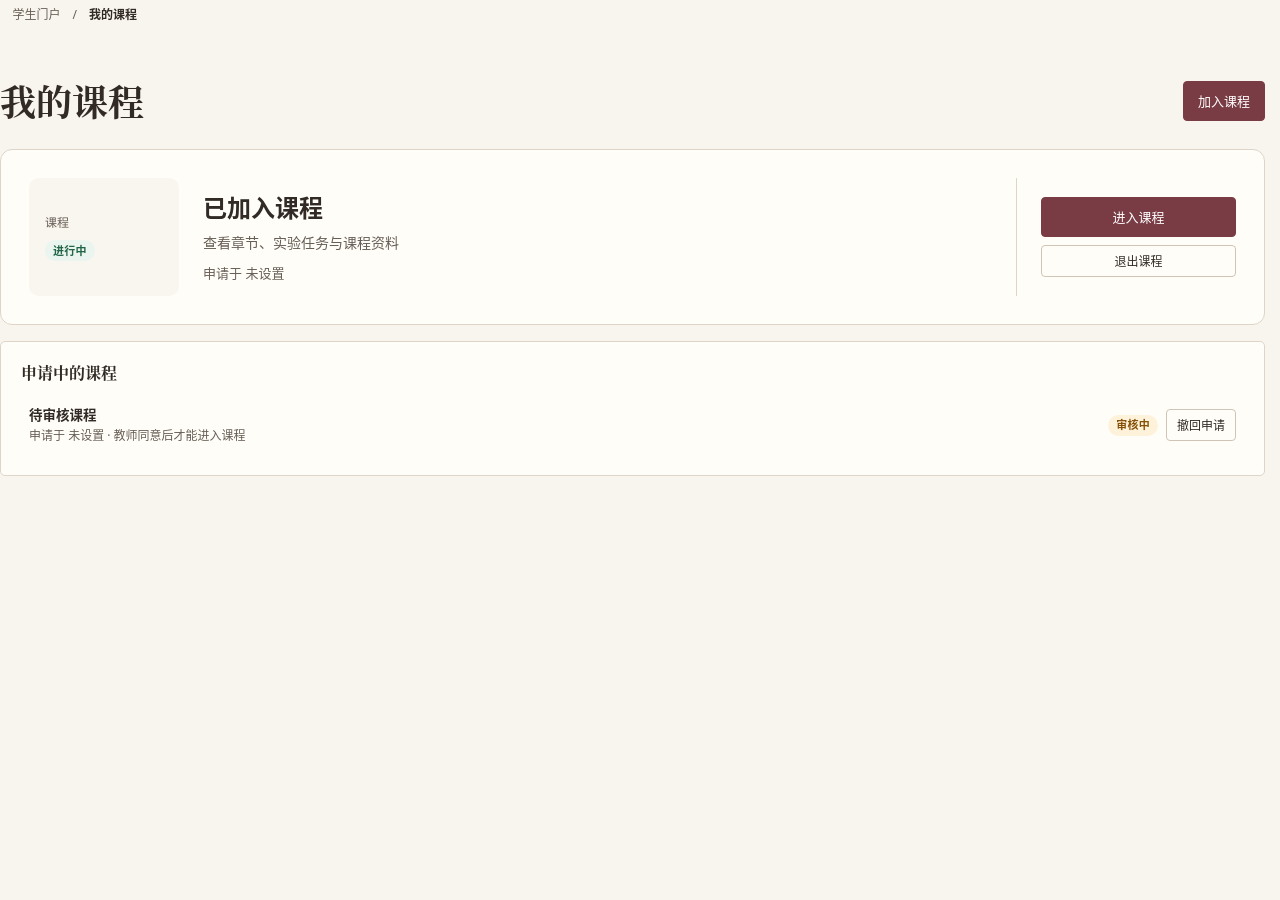
Test: 我的课程展示待审核申请，撤回后刷新且不能进入待审核课程
Expected: the text "待审核课程" is shown, [29,406,96,424]
Click the button "撤回申请" at (1201, 425), box [1166,409,1236,441]
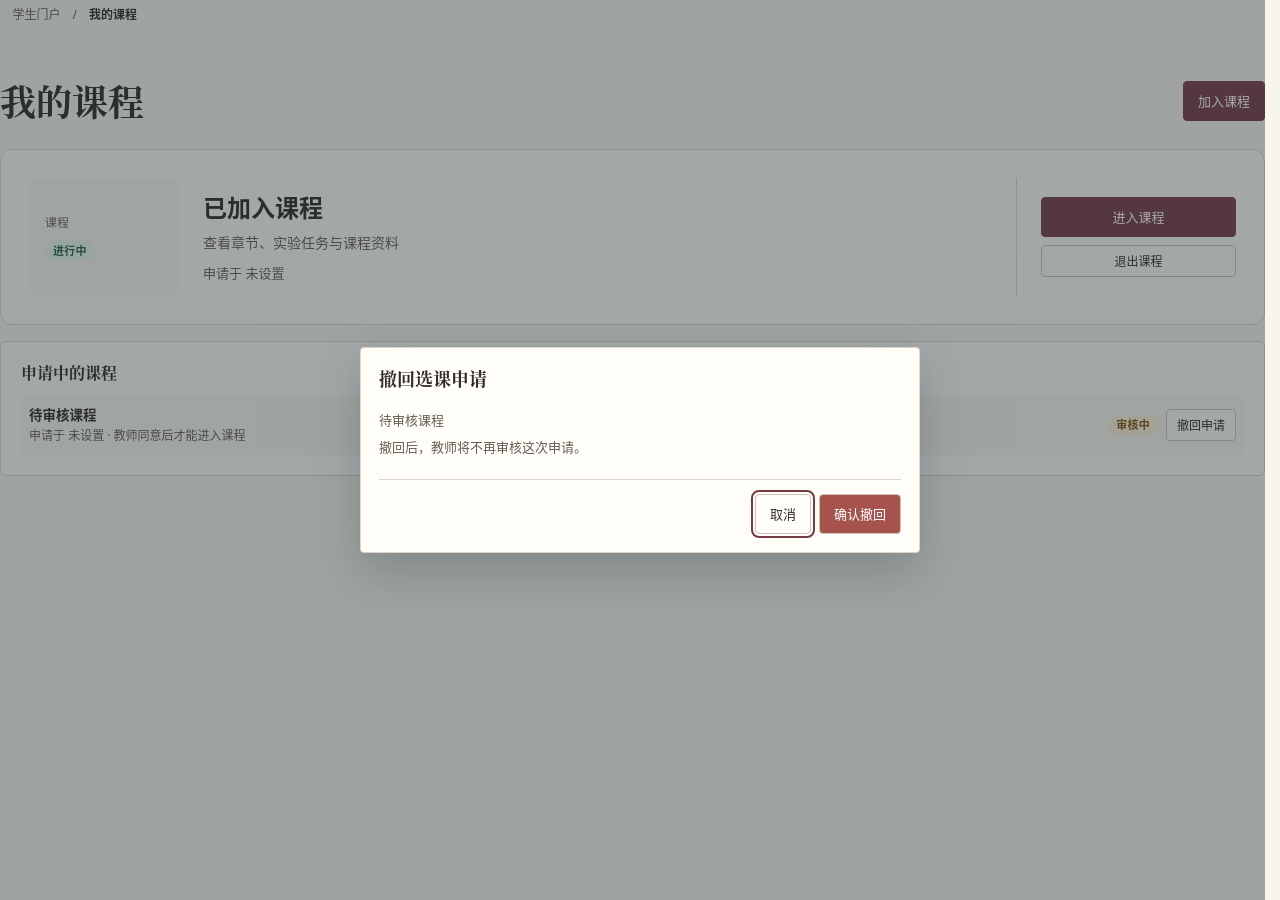
Expected: the button "确认撤回" is enabled
Click the button "确认撤回" at (860, 514), box [819,494,901,534]
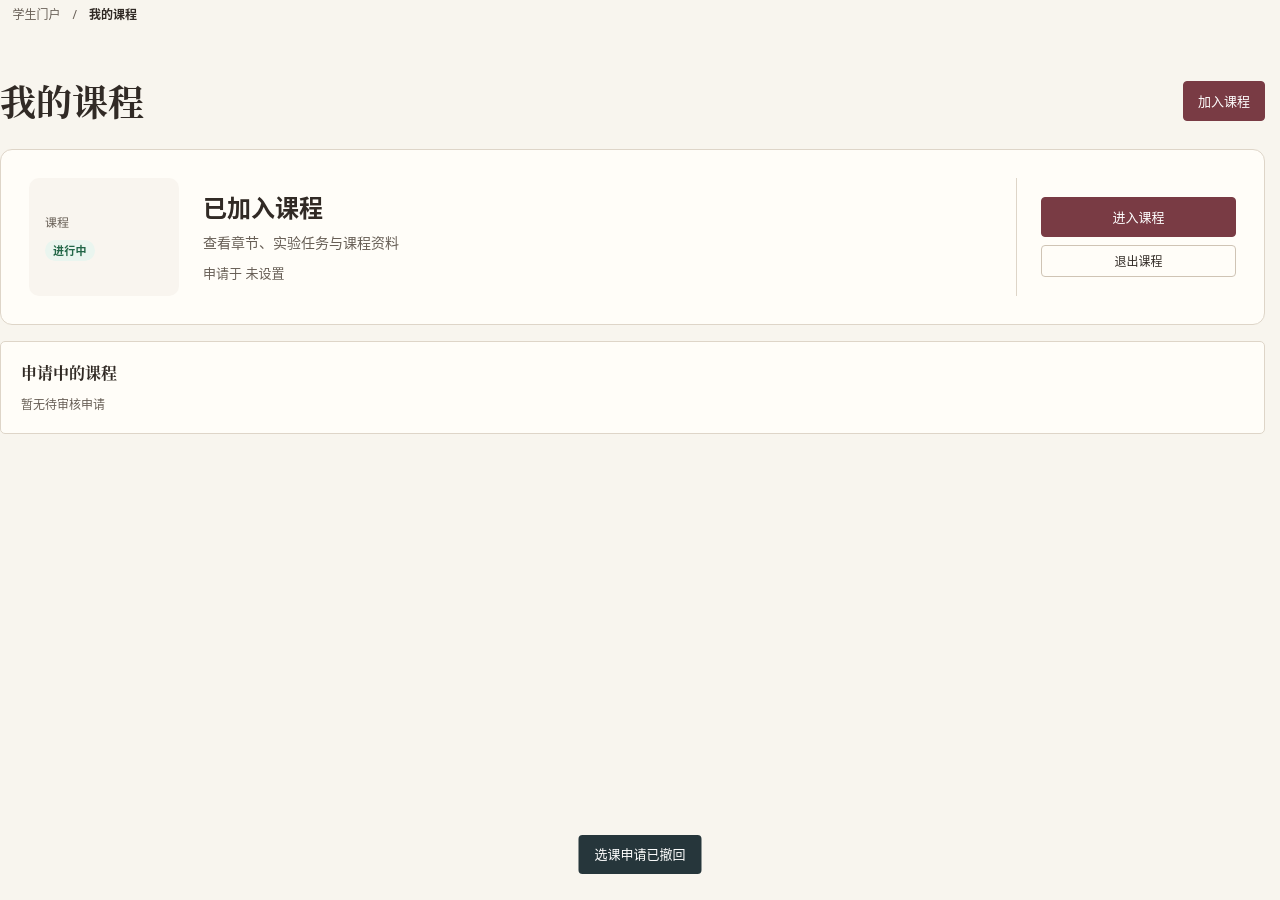
Expected: the text "暂无待审核申请" is shown, [21,396,105,413]
